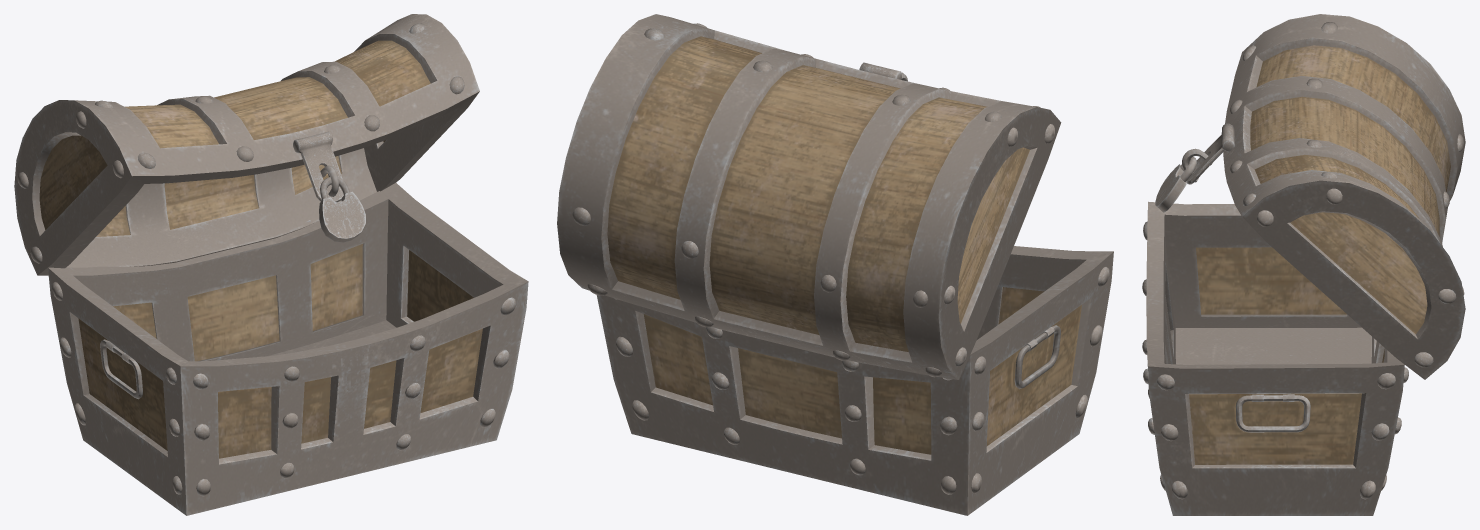
The model's file is Item_Box.fbx.
3 renders of one model, left to right at view 1: azimuth 30°, elevation 25°; view 2: azimuth 150°, elevation 25°; view 3: azimuth 270°, elevation 25°, orthographic. The views are drawn at different scales.
Visible parts, largest first — view 1: Object048, Object049; view 2: Object049, Object048; view 3: Object049, Object048.
Part boxes in pixels (<box>): Object048: <box>48,183,528,515</box>; Object049: <box>14,14,479,275</box>; Object049: <box>557,14,1061,379</box>; Object048: <box>596,246,1113,515</box>; Object049: <box>1155,14,1465,379</box>; Object048: <box>1142,201,1408,515</box>.
Bounding box in the file's own units: 75.3 × 60.29 × 71.04.
